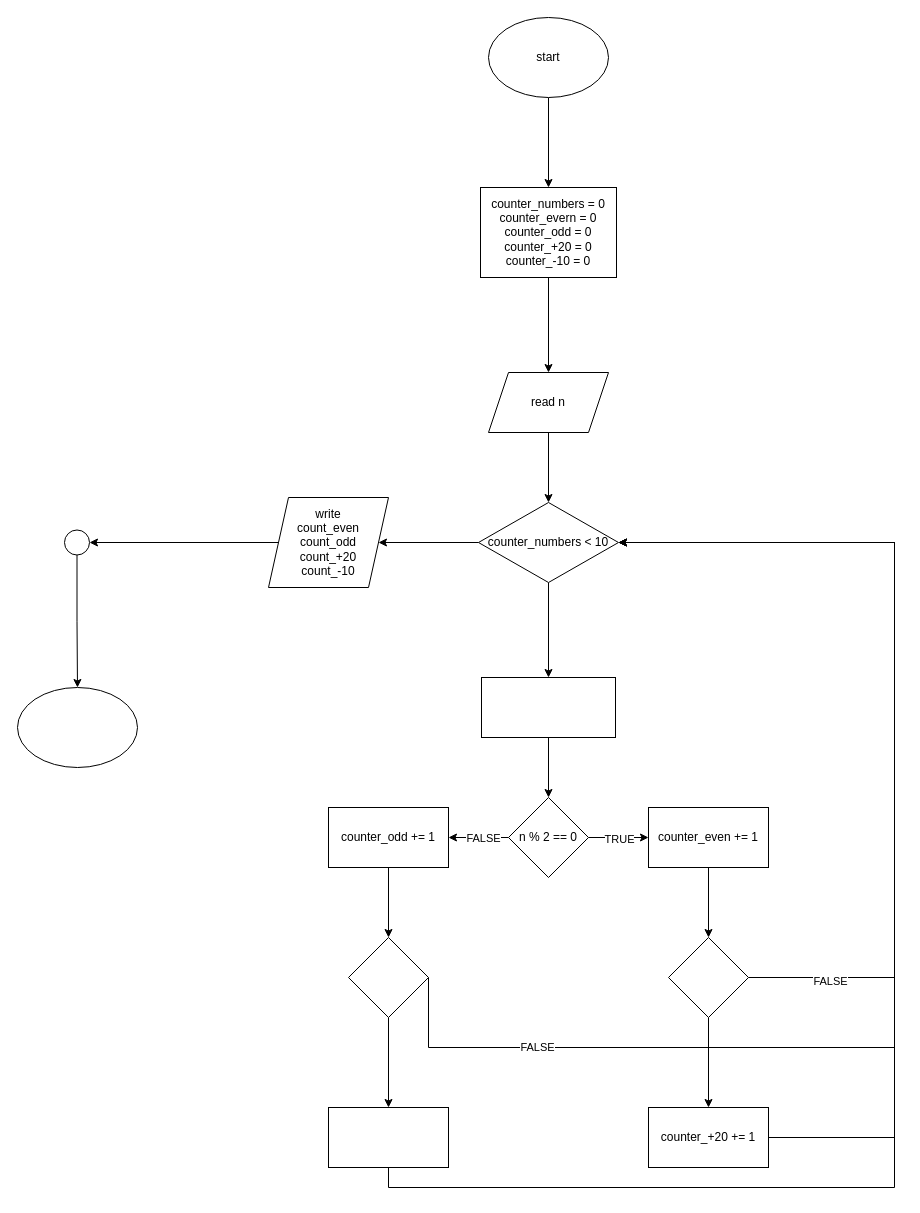
Some shapes in this 920 by 1213 pixel diagram are drawn without their labels. Each missing label, with the box of its shape:
counter_-10 += 1: (328, 1106, 448, 1168)
counter_numbers += 1: (480, 676, 616, 738)
end: (16, 686, 138, 768)
n < -10: (348, 936, 428, 1018)
n > 20: (668, 936, 748, 1018)
